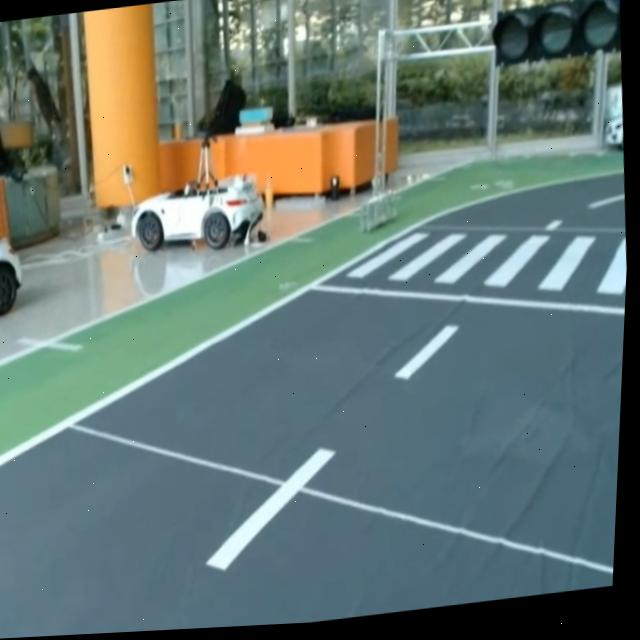traffic-light: (487, 0, 623, 68)
